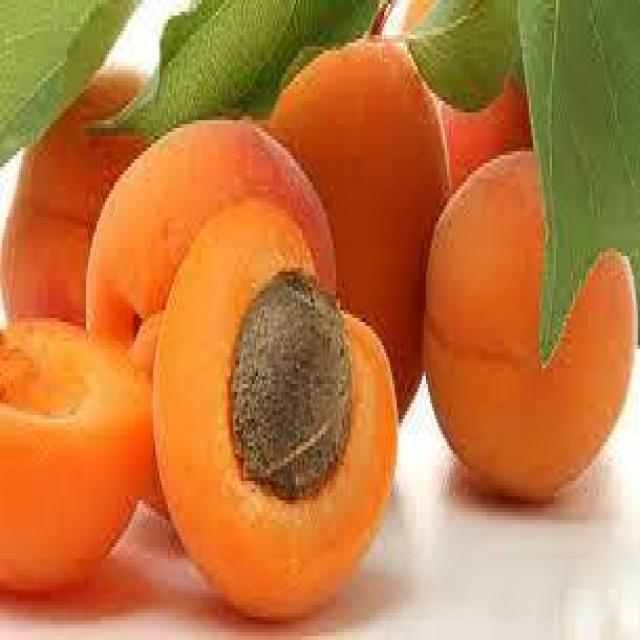Cekirdek: (231, 268, 350, 496)
Yaprak: (269, 39, 445, 411), (512, 0, 638, 361)
